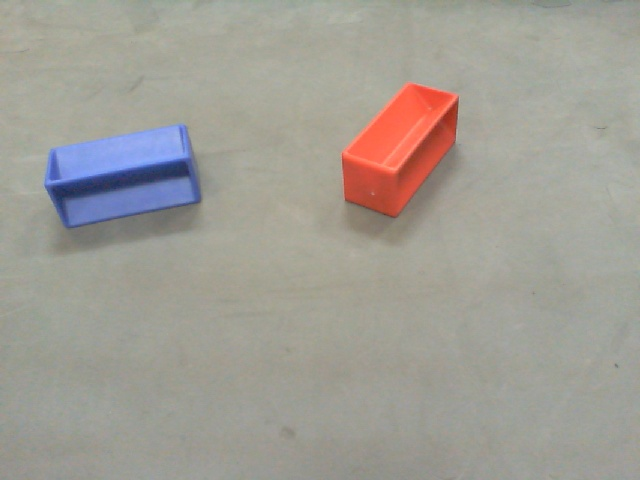BlueSample: (45, 121, 203, 228)
RedSample: (336, 80, 466, 219)
